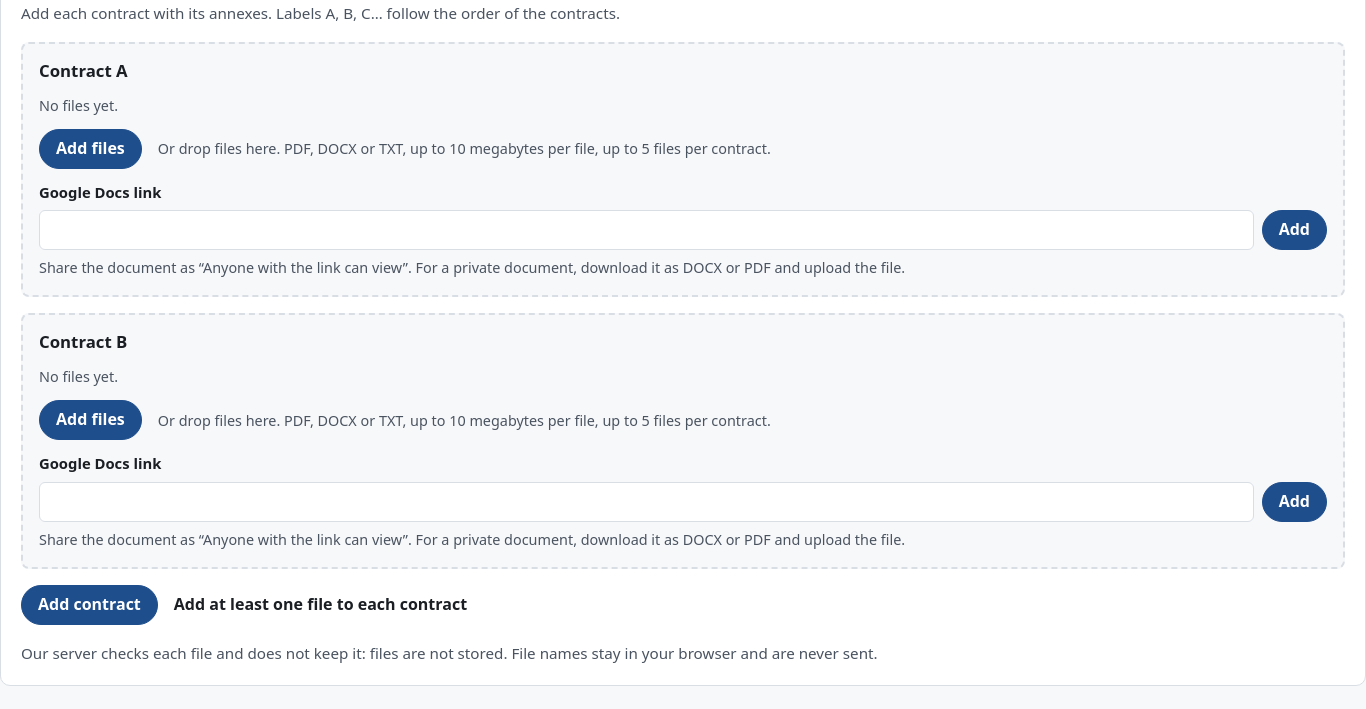
Test case: UploadForm internals › re-enables Add contract after a removal at five contracts
Check: the element "Contract A" is shown, box [21,42,1345,297]
Click the button "Add contract": (89, 605) [21,585,158,625]
(page scrolled)
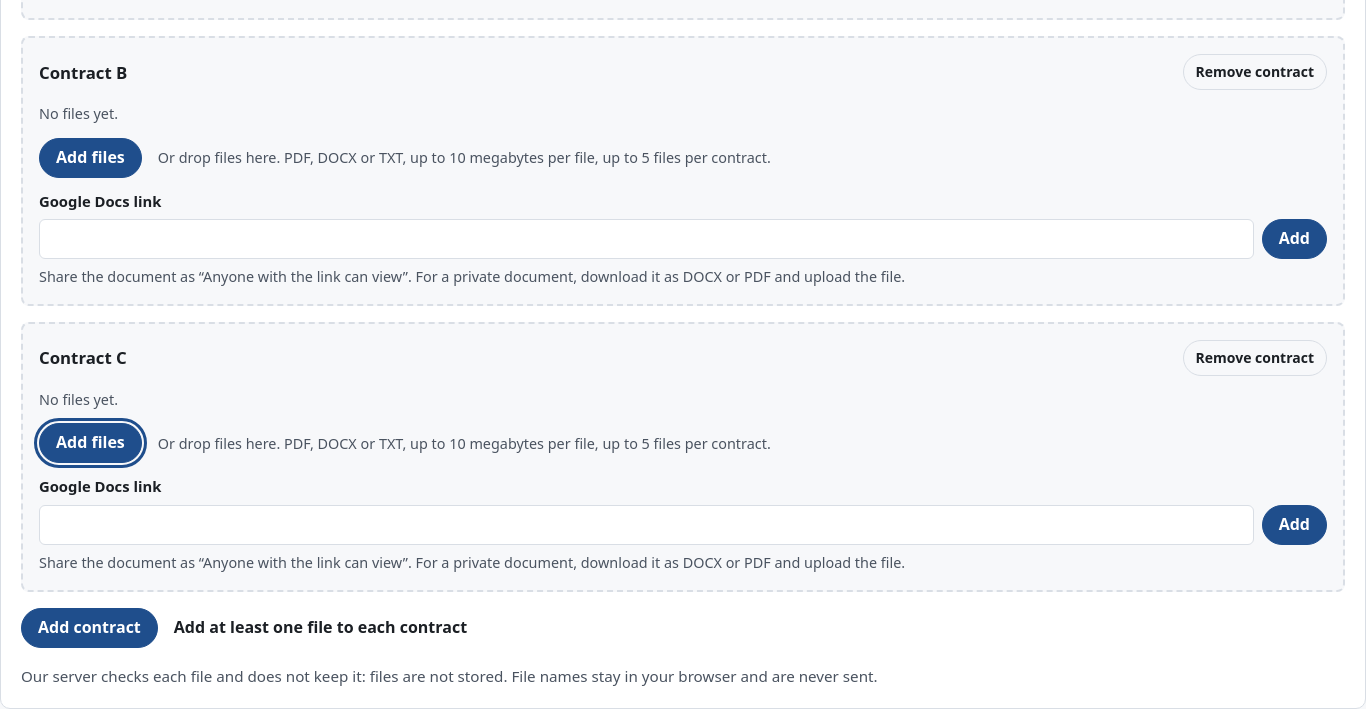
Click the button "Add contract": (89, 628) [21,608,158,648]
(page scrolled)
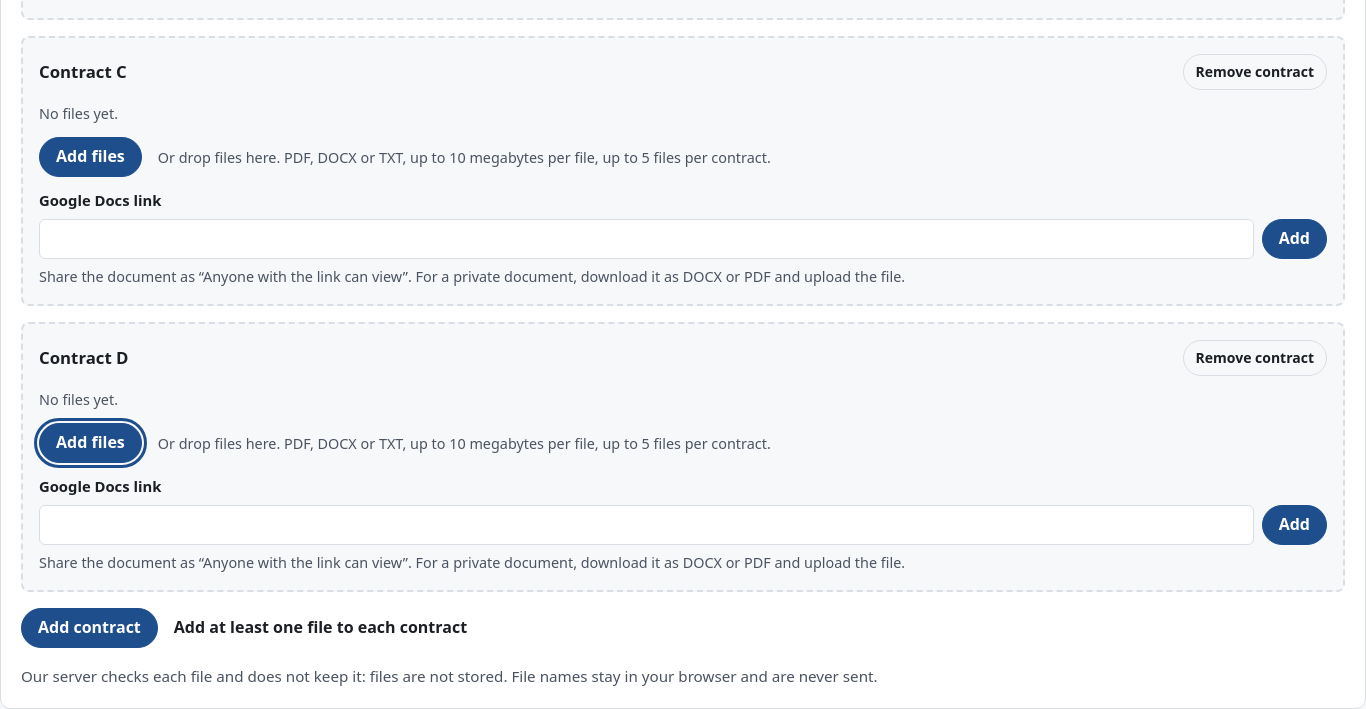
Click the button "Add contract": (89, 628) [21,608,158,648]
(page scrolled)
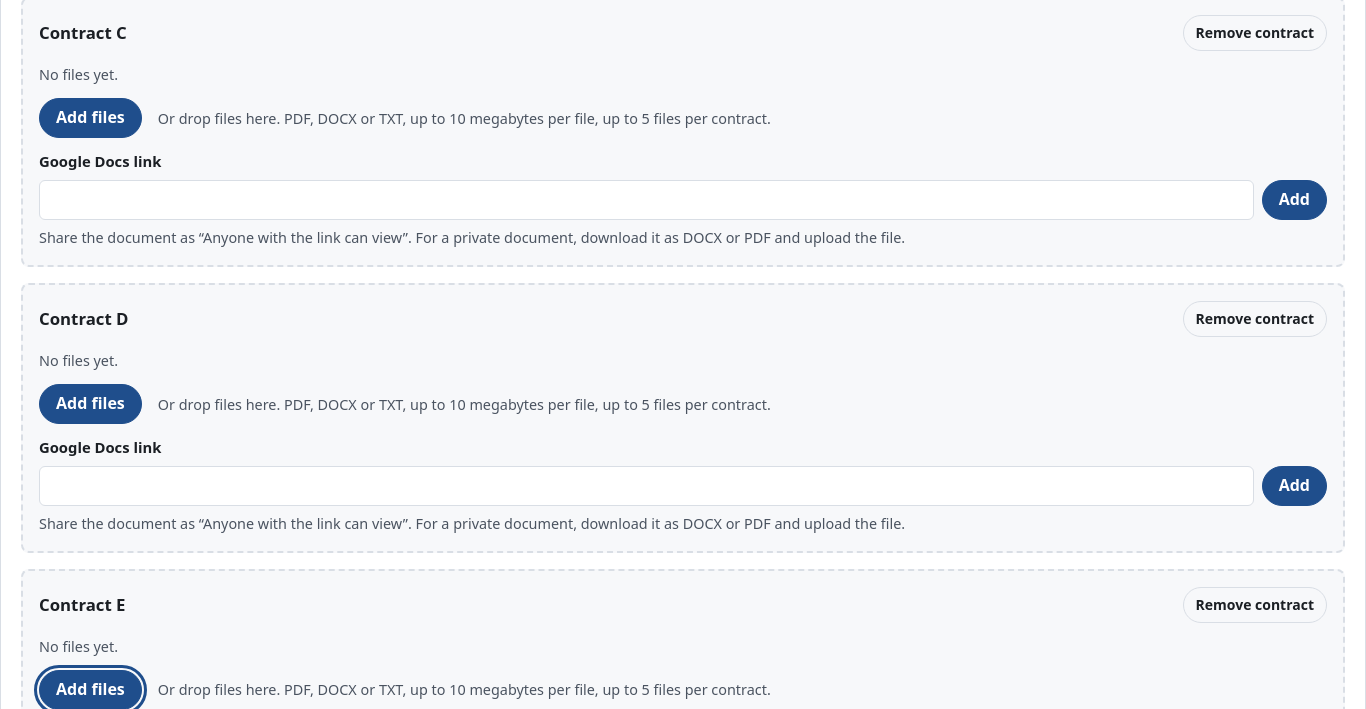
Click the button with aria-label "Remove Contract E": (1255, 605) [1182,587,1327,623]
(page scrolled)
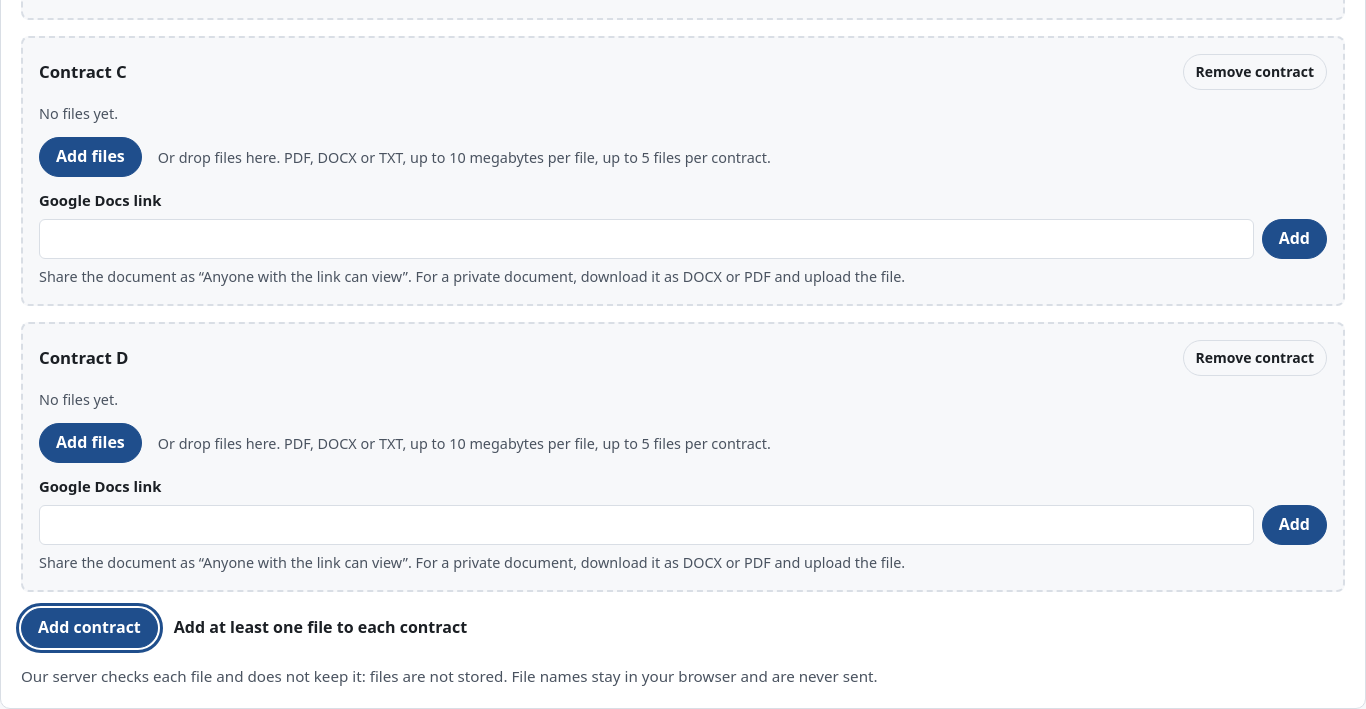
Check: the button "Add contract" is enabled, box [21,608,158,648]
